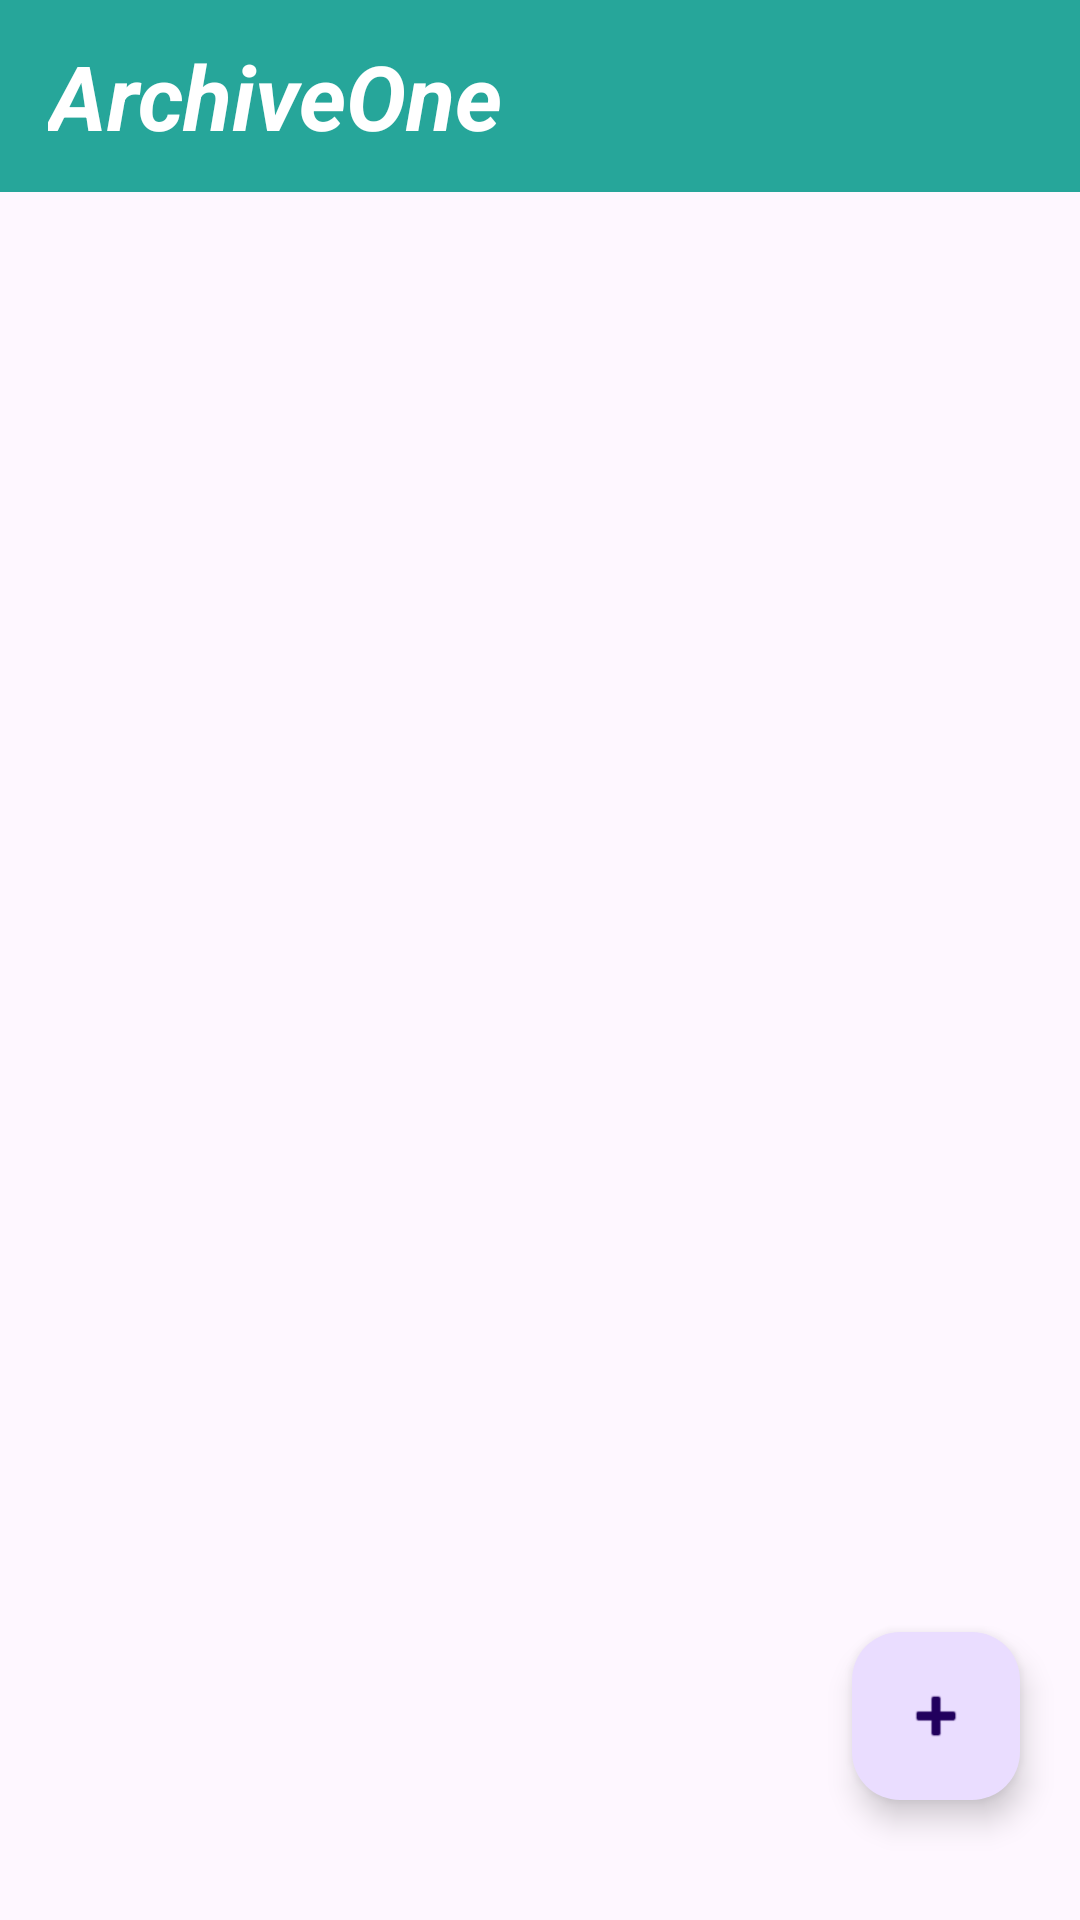

Where icons sit on this 1080x1920 app screen, as (x1, y1, x2, y2):
Add Article Button: (852, 1632, 1020, 1800)
